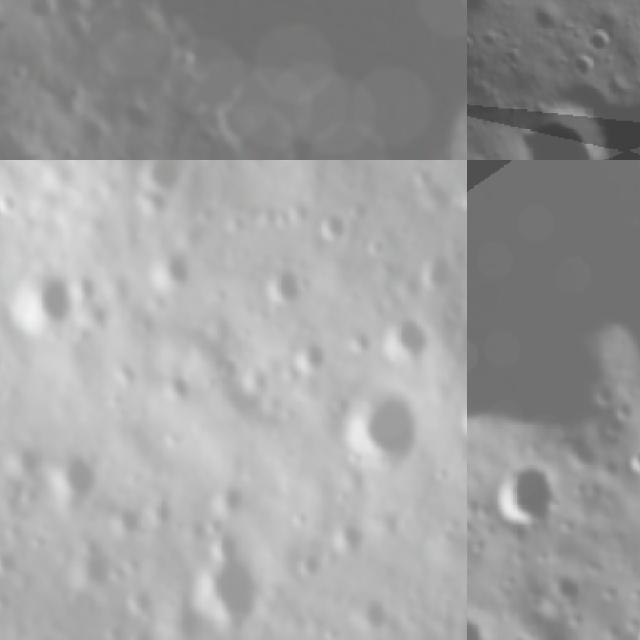crater: (467, 160, 640, 522), (88, 0, 467, 160), (330, 387, 424, 484), (508, 90, 635, 160), (190, 544, 262, 631), (12, 266, 86, 348), (492, 455, 569, 532), (66, 528, 120, 602), (382, 308, 442, 370), (51, 448, 104, 509), (134, 160, 200, 207), (261, 258, 307, 316), (149, 246, 200, 298), (412, 248, 460, 295), (288, 334, 338, 378), (353, 593, 396, 638), (212, 486, 260, 525), (143, 490, 180, 534), (335, 519, 374, 558), (212, 356, 254, 392), (125, 582, 158, 621), (411, 160, 442, 201), (56, 18, 94, 50), (293, 551, 327, 586), (164, 374, 191, 411), (626, 440, 640, 477), (457, 181, 467, 232), (127, 627, 158, 640), (630, 611, 640, 640)
